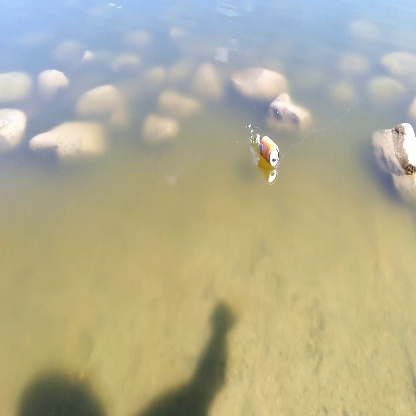bottle: (253, 133, 285, 167)
